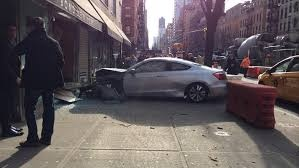Dent: (170, 82, 189, 99)
Smashed: (86, 66, 132, 101)
